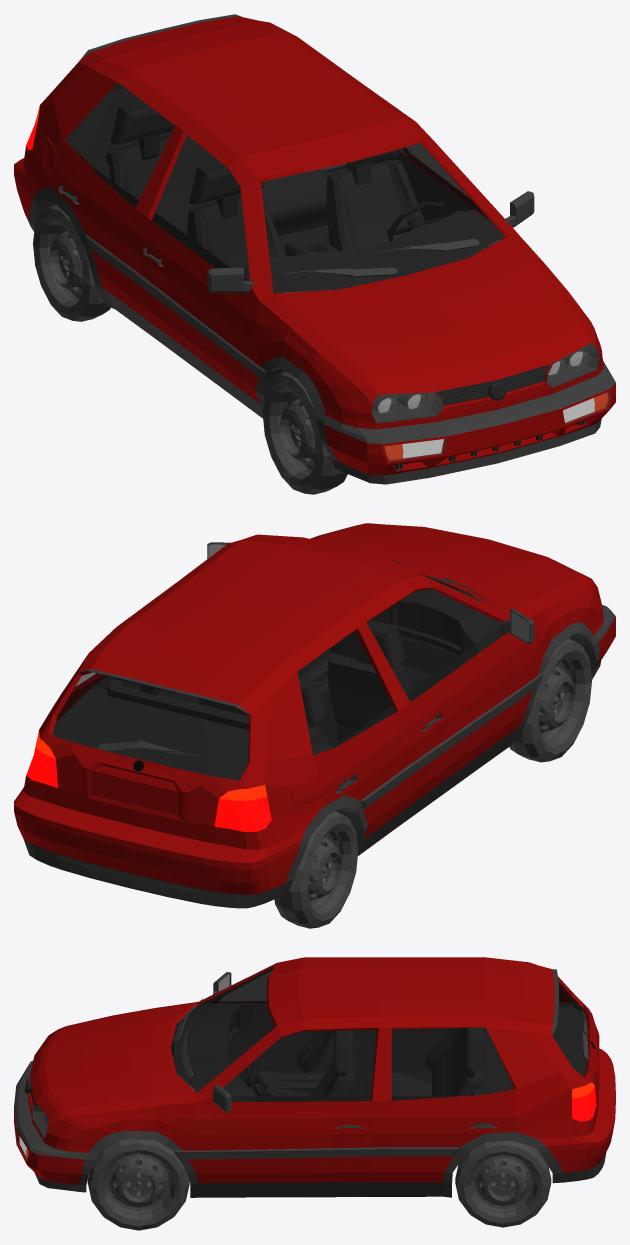
Rendered from golf.glb.
The picture shows the model from 3 angles, top to bottom: view 1: azimuth 30°, elevation 25°; view 2: azimuth 150°, elevation 25°; view 3: azimuth 270°, elevation 25°; orthographic projection. The views are drawn at different scales.
Parts seen in each view (by area): view 1: body, door_fr, door_fl, wheel1, wheel0; view 2: body, door_fr; view 3: body, door_fl, door_fr, wheel0.
Part boxes in pixels (x1,y1,x2,y2): body: (14,14,615,494); door_fr: (166,172,349,432); door_fl: (404,138,551,274); wheel1: (290,392,446,470); wheel0: (546,343,610,425); body: (14,523,615,928); door_fr: (411,575,562,788); body: (14,957,615,1230); door_fl: (142,1026,329,1187); door_fr: (142,967,327,1078); wheel0: (16,1101,151,1195).
Bounding box in the file's own units: 1.97 × 1.44 × 4.02.
